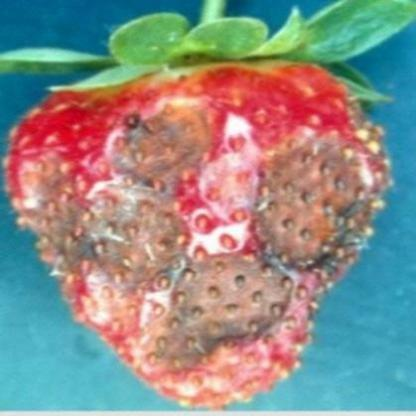Strawberry_Anthracnose_Fruit_Rot: (3, 92, 388, 382)
